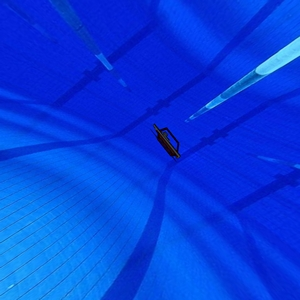submarine: (151, 122, 191, 166)
